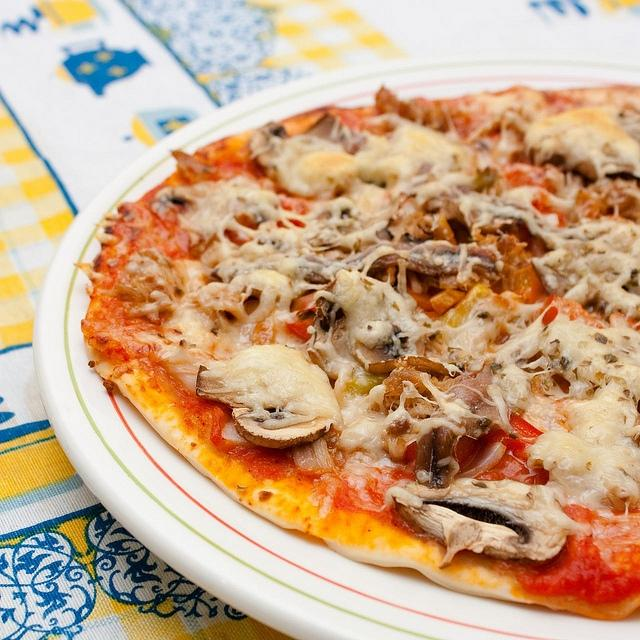mushroom: (402, 478, 593, 570), (352, 336, 409, 374), (250, 122, 288, 176), (150, 186, 188, 212)
